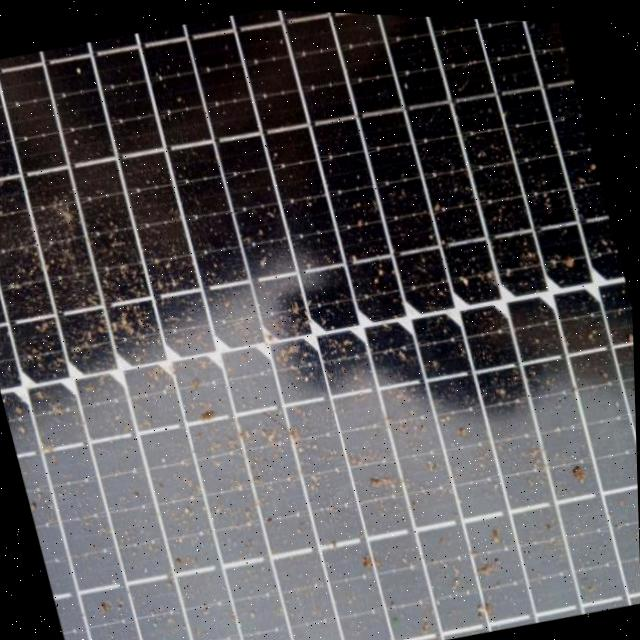Anomaly Solar Panel: (0, 0, 640, 640)
Surface Contaminant: (0, 8, 640, 640)
